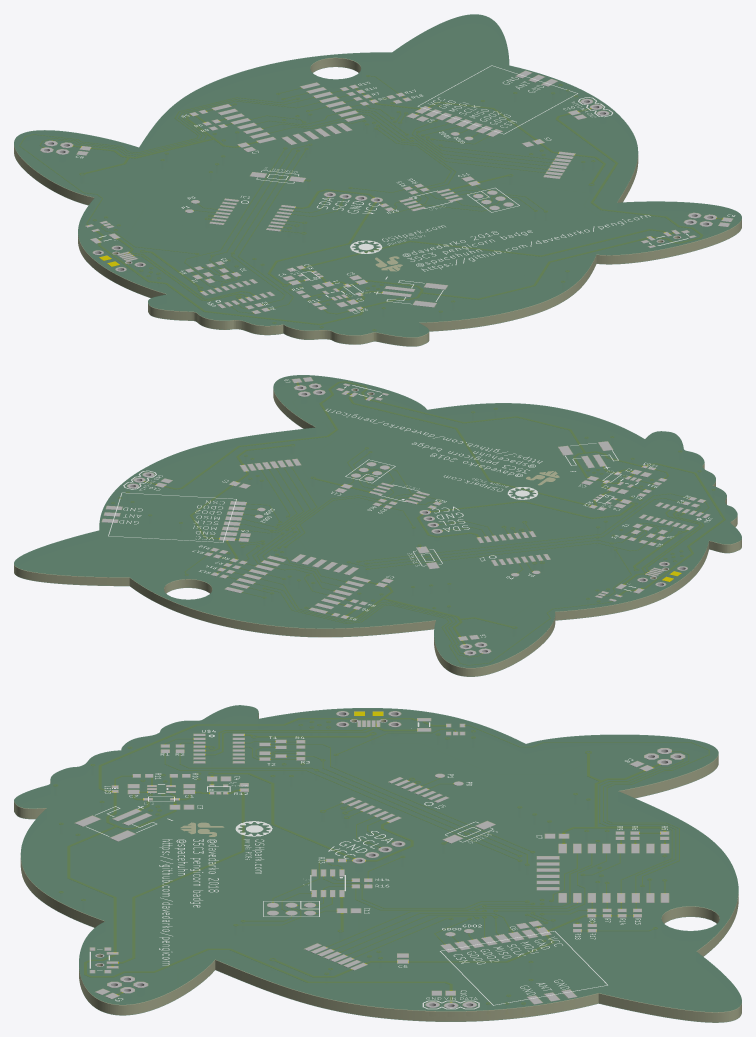
File: penghicorn.glb
The picture shows the model from 3 angles, top to bottom: view 1: azimuth 30°, elevation 25°; view 2: azimuth 150°, elevation 25°; view 3: azimuth 270°, elevation 25°; orthographic projection. The views are drawn at different scales.
Visible parts, largest first — view 1: =>[0:1:1:7], =>[0:1:1:9], =>[0:1:1:2], =>[0:1:1:5]; view 2: =>[0:1:1:7], =>[0:1:1:9], =>[0:1:1:2], =>[0:1:1:5]; view 3: =>[0:1:1:7], =>[0:1:1:9], =>[0:1:1:2], =>[0:1:1:5].
Part boxes in pixels (x1,y1,x2,y2): =>[0:1:1:7]: (14, 14, 741, 346); =>[0:1:1:9]: (14, 15, 741, 346); =>[0:1:1:2]: (20, 70, 732, 330); =>[0:1:1:5]: (76, 65, 735, 313); =>[0:1:1:7]: (14, 375, 741, 676); =>[0:1:1:9]: (14, 376, 741, 676); =>[0:1:1:2]: (102, 377, 725, 660); =>[0:1:1:5]: (108, 379, 712, 637); =>[0:1:1:7]: (14, 705, 741, 1022); =>[0:1:1:9]: (14, 706, 741, 1022); =>[0:1:1:2]: (54, 711, 707, 1008); =>[0:1:1:5]: (86, 722, 667, 1009).
Size of the model in its own units: 0.0994 by 0.00166 by 0.0996.
Materials: 4 (4 with a texture image).
